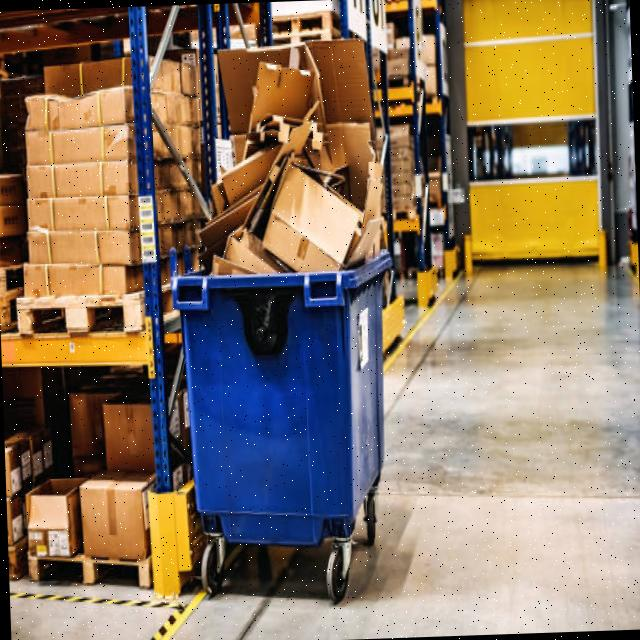Wooden-Pallets: (25, 552, 151, 599), (13, 293, 141, 339)
